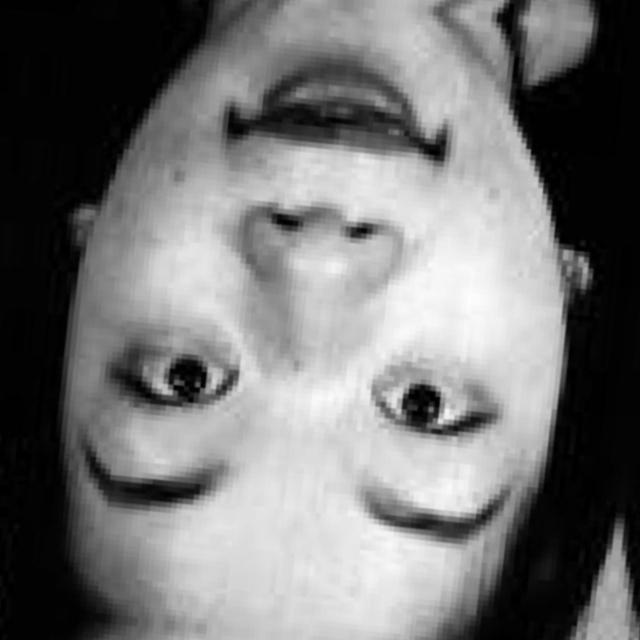surprise: (86, 0, 556, 621)
